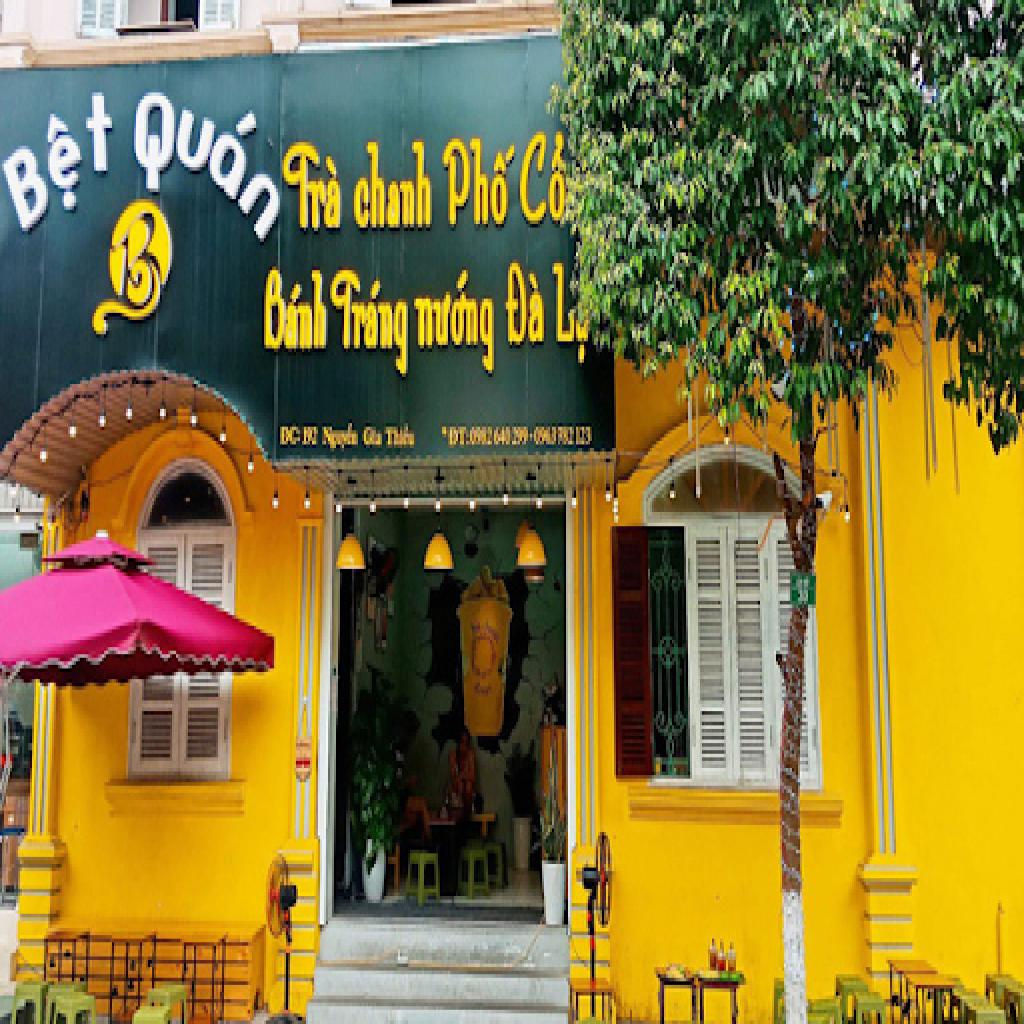text: (136, 71, 288, 253), (2, 75, 118, 245), (326, 263, 412, 384), (412, 267, 496, 384), (348, 135, 436, 235), (442, 132, 520, 234), (282, 135, 346, 242), (260, 260, 330, 356), (518, 125, 574, 231), (502, 256, 548, 356), (552, 256, 578, 352), (470, 423, 530, 448), (322, 420, 360, 455), (384, 423, 418, 455), (278, 423, 302, 452), (362, 423, 384, 452), (448, 423, 470, 452), (302, 423, 320, 452)
